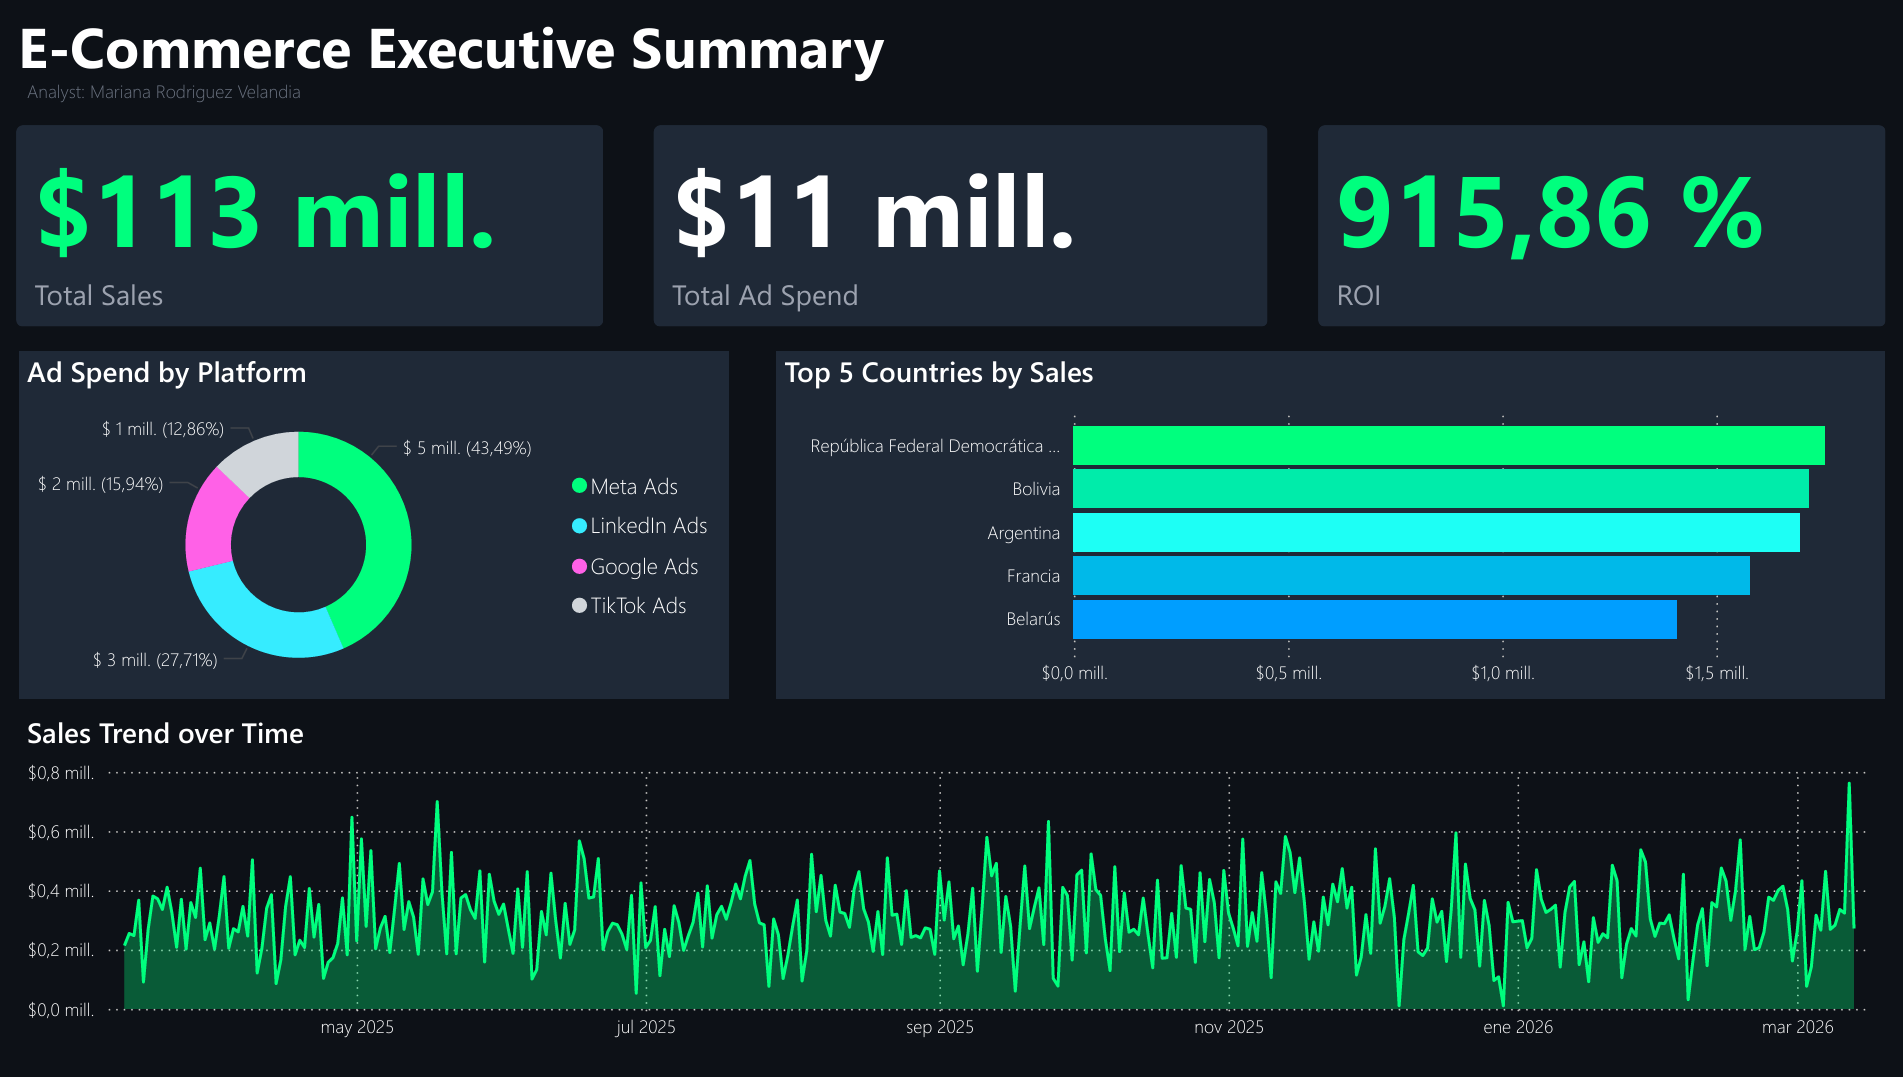

Layout of this report page (visuals, bound fields, positions):
{"tool":"powerbi","page":{"name":"Página 1","canvas":[1280,720],"ordinal":0},"visuals":[{"type":"cardVisual","fields":{"Data":["clean_sales.Total Revenue"]},"box":[0,66,425,168],"z":0},{"type":"cardVisual","fields":{"Data":["clean_marketing.Total Ad Spend"]},"box":[425.2,65.6,442.5,168.2],"z":1000},{"type":"cardVisual","fields":{"Data":["clean_sales.ROI"]},"box":[867.7,65.6,412.3,168.2],"z":2000},{"type":"clusteredBarChart","title":"Top 5 Countries by Sales","fields":{"Category":["clean_customers.country"],"Y":["clean_sales.Total Revenue"]},"box":[524.4,233.7,738.3,232],"z":3000},{"type":"donutChart","title":"Ad Spend by Platform","fields":{"Category":["clean_marketing.platform"],"Y":["clean_marketing.Total Ad Spend"]},"box":[19,233.7,472.7,232],"z":4000},{"type":"textbox","box":[13,0,841,59],"z":5000},{"type":"areaChart","title":"Sales Trend over Time","fields":{"Y":["clean_sales.Total Sales"],"Category":["clean_sales.sale_date.Variación.Jerarquía de fechas.Año","clean_sales.sale_date.Variación.Jerarquía de fechas.Trimestre","clean_sales.sale_date.Variación.Jerarquía de fechas.Mes","clean_sales.sale_date.Variación.Jerarquía de fechas.Día"]},"box":[18.8,475.1,1252.5,226.9],"z":6000},{"type":"textbox","box":[19,46,381,30],"z":7000}]}

Visuals, with their boxes in screenshot pixels (x1, y1, x2, y2), scaled from the page's 1280x720 canvas onto the 1903x1077 screenshot:
cardVisual - clean_sales.Total Revenue: [0, 99, 632, 350]
cardVisual - clean_marketing.Total Ad Spend: [632, 98, 1290, 350]
cardVisual - clean_sales.ROI: [1290, 98, 1902, 350]
"Top 5 Countries by Sales" clusteredBarChart: [780, 350, 1877, 697]
"Ad Spend by Platform" donutChart: [28, 350, 731, 697]
textbox: [19, 0, 1270, 88]
"Sales Trend over Time" areaChart: [28, 711, 1890, 1050]
textbox: [28, 69, 595, 114]
